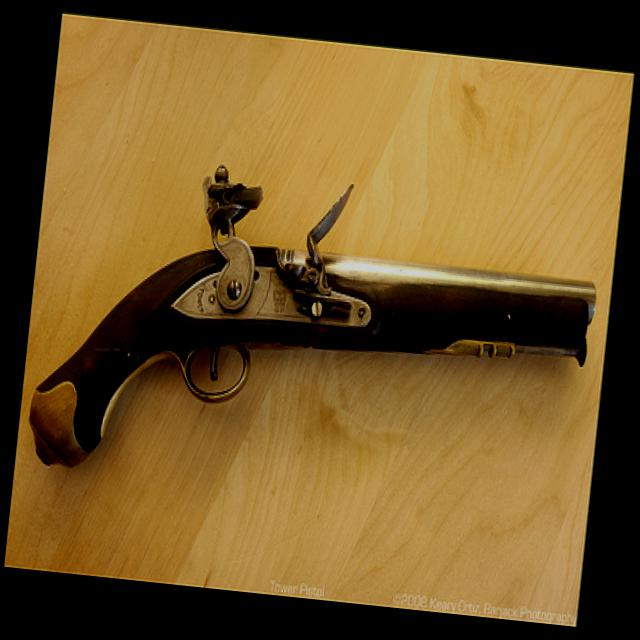handgun: (22, 139, 606, 519)
